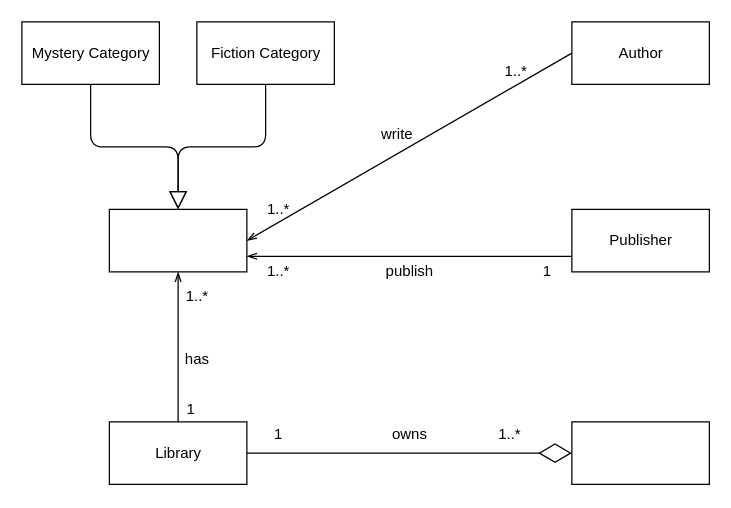
The diagram is 731 pixels wide and 508 high, and some of its shapes have lost their labels. The shapes that lost their labels are listed below. From the top down, each one's box as (x1, y1, x2, y2) in pixels, then its label:
(108, 208, 247, 272): Book
(571, 421, 709, 484): Owner
